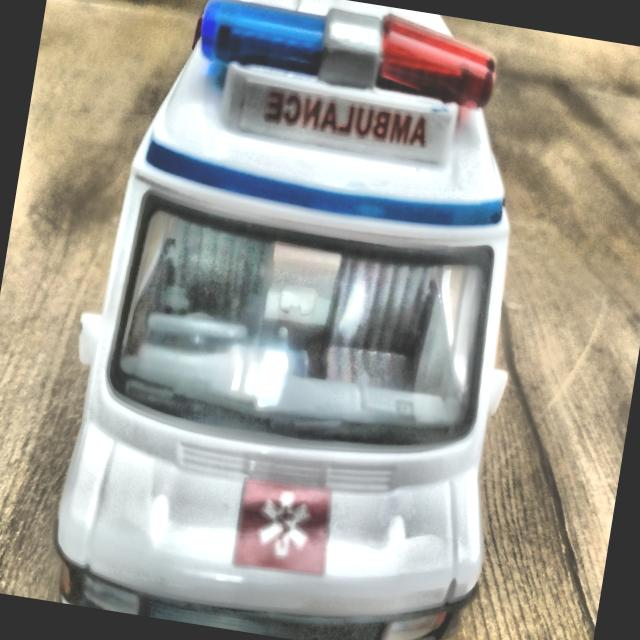Ambulance: (30, 0, 576, 640)
